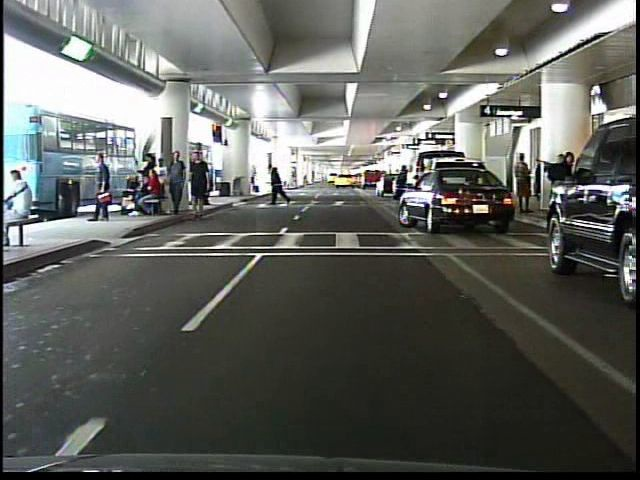person: (4, 163, 38, 249), (87, 147, 118, 230), (515, 150, 533, 215), (271, 162, 295, 207)
